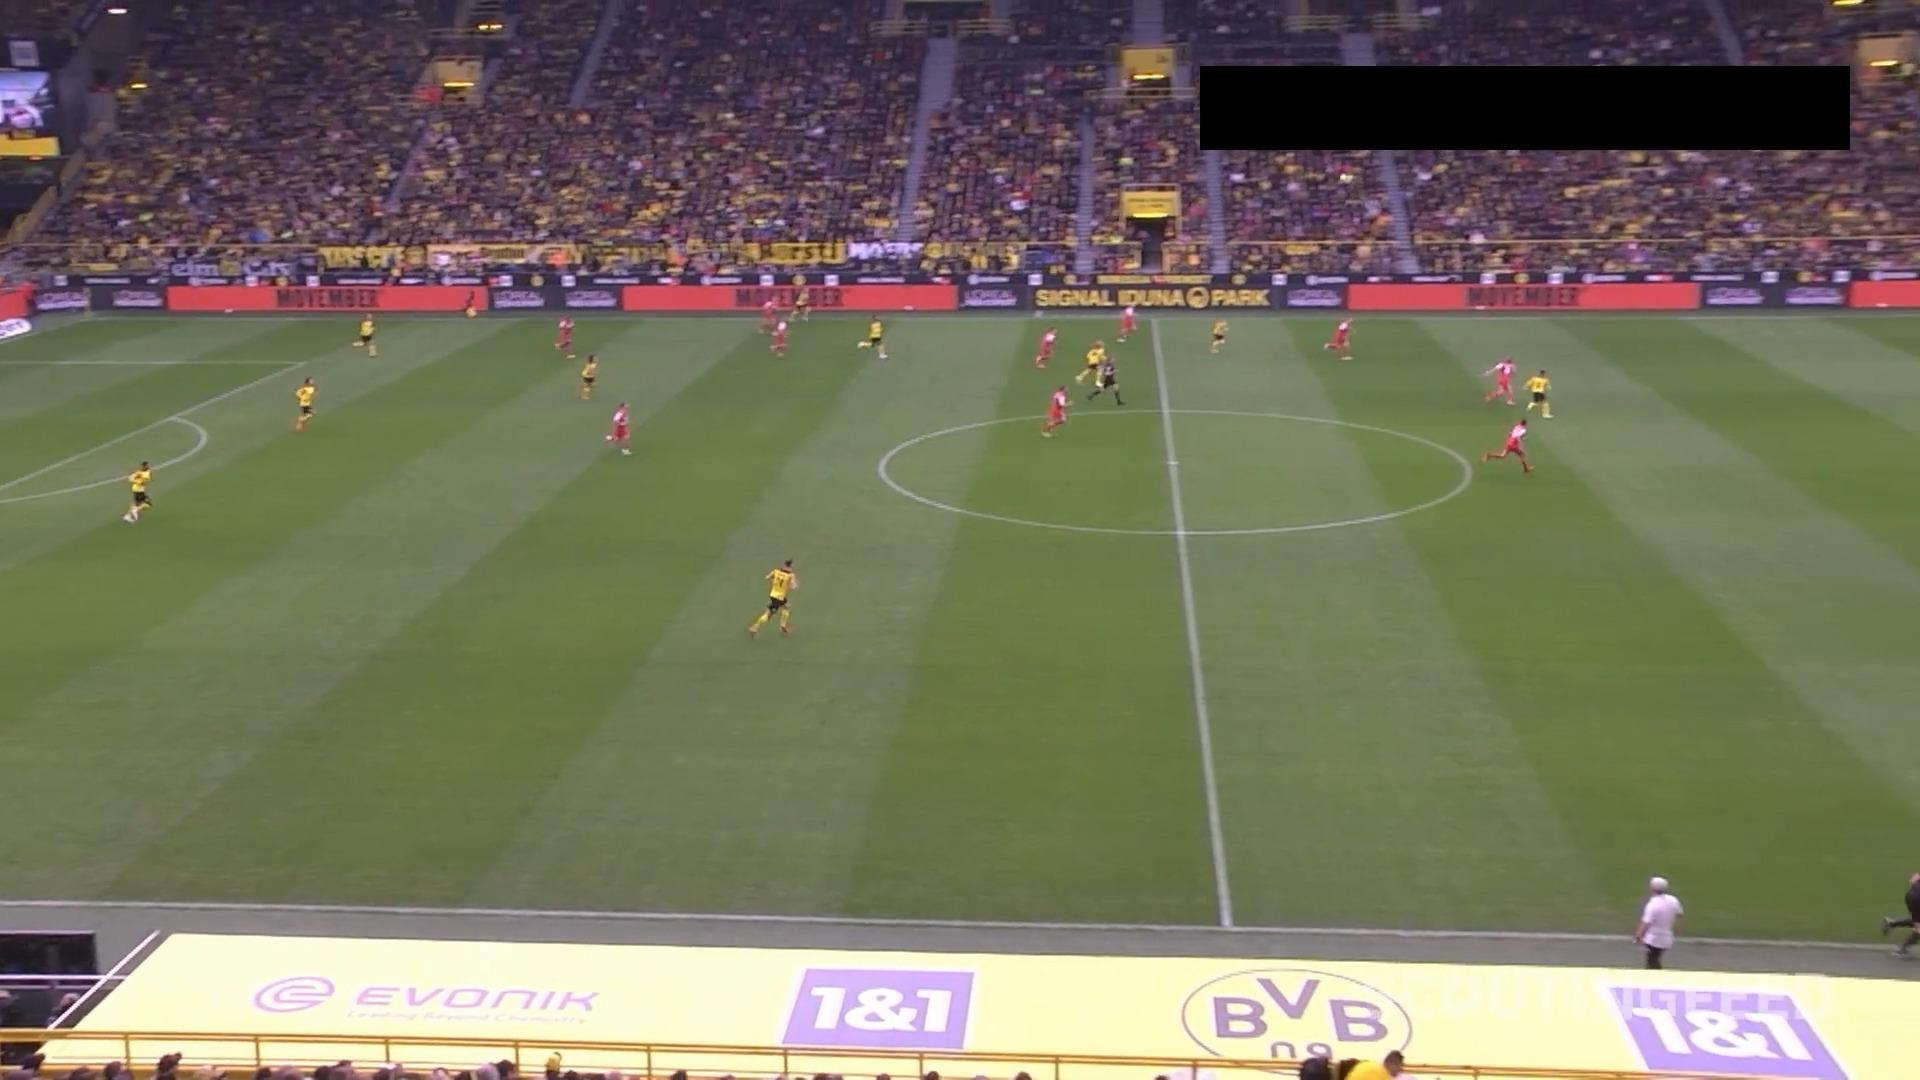coach: (1632, 875, 1683, 968)
player: (746, 557, 798, 638), (1480, 417, 1534, 473), (121, 459, 152, 522), (1480, 355, 1517, 405), (1039, 383, 1070, 437), (1523, 367, 1554, 419), (604, 401, 632, 455), (1075, 338, 1107, 384), (1322, 316, 1354, 360), (292, 375, 316, 431), (862, 314, 888, 358), (354, 311, 378, 357), (553, 313, 576, 357), (1034, 325, 1057, 367), (1115, 300, 1137, 343), (578, 352, 598, 399), (768, 315, 789, 356), (789, 282, 811, 321), (758, 295, 779, 334), (1209, 318, 1229, 353), (462, 289, 477, 318)
referee: (1879, 870, 1919, 958), (1085, 354, 1124, 405)
